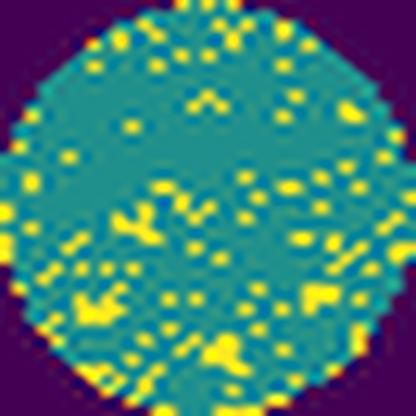Loc: (100, 197, 168, 249), (200, 329, 254, 379), (72, 281, 130, 325), (299, 285, 345, 315)
